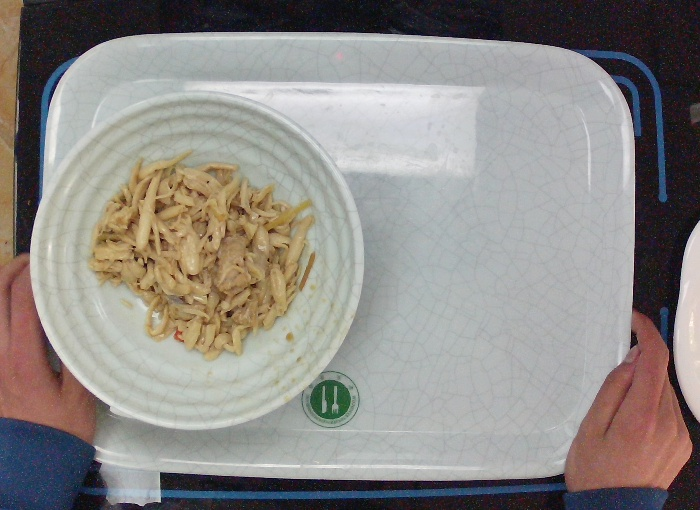JYsf-Da_Tang_Wan: (23, 89, 370, 432)
